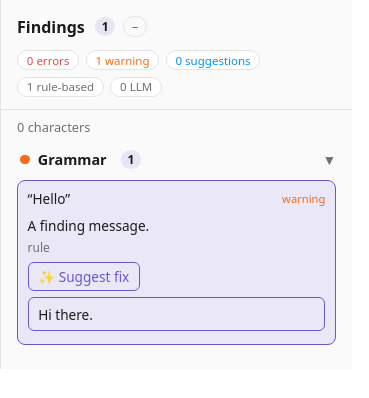
Test case: Sidebar surfaces embed replacement failures (B43 C1) › a not-found rewrite apply keeps the existing sentence-changed message
The width and height of the screenshot is (369, 398).
What coordinates should you click on to do the following:
click the button "Hi there."
I would click on:
 (66, 314)
Its box is [28, 297, 325, 331].
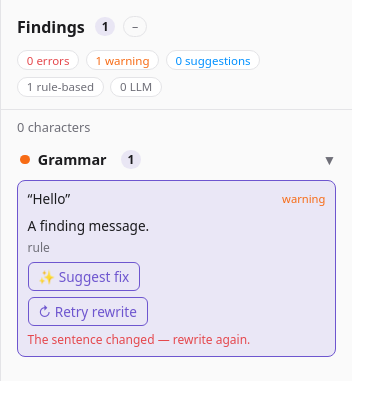
Expected: the text "The sentence changed — rewrite again." is shown, [28, 331, 250, 348]
